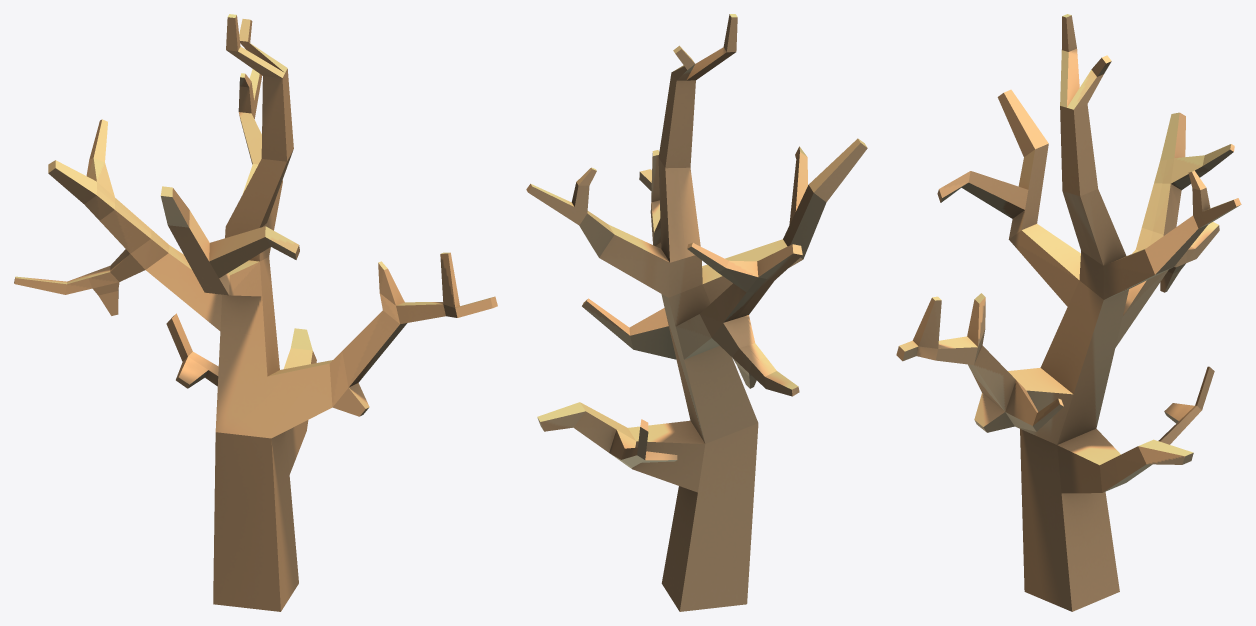
File: tree.glb
3 renders of one model, left to right at view 1: azimuth 30°, elevation 25°; view 2: azimuth 150°, elevation 25°; view 3: azimuth 270°, elevation 25°, orthographic. The views are drawn at different scales.
Visible parts, largest first — view 1: dead_tree; view 2: dead_tree; view 3: dead_tree.
Part boxes in pixels (x1,y1,x2,y2): dead_tree: (14,14,497,611); dead_tree: (526,14,867,611); dead_tree: (896,14,1241,611).
Size of the model in its own units: 1.28 by 2.23 by 1.24.
1 material, 1 textured.
